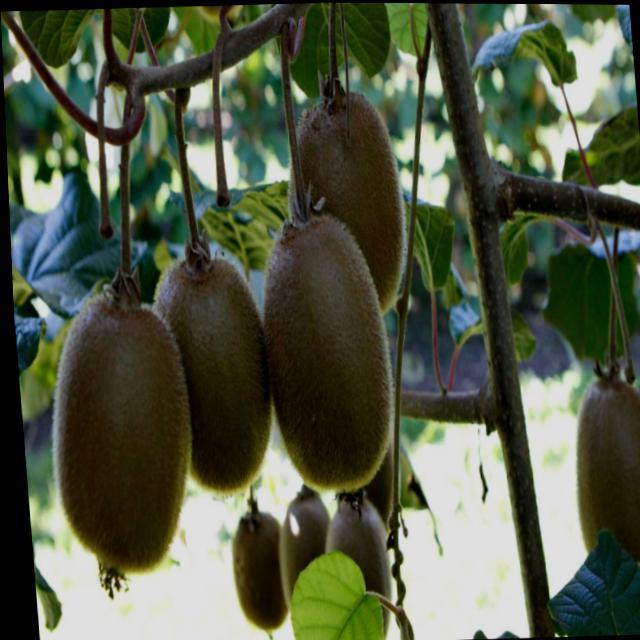kiwi: (35, 278, 203, 601), (249, 196, 402, 506), (145, 250, 277, 499), (279, 80, 411, 329), (562, 356, 640, 590)
